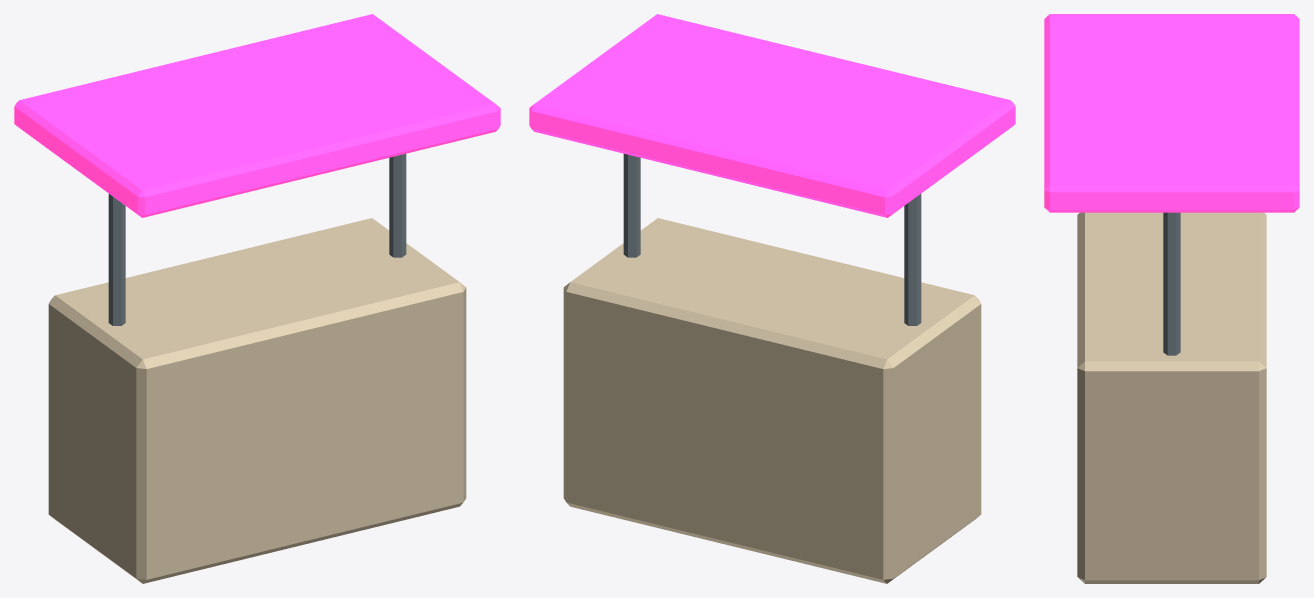
File: street_007_seed11.glb
3 views of the same model, side by side, from view 1: azimuth 30°, elevation 25°; view 2: azimuth 150°, elevation 25°; view 3: azimuth 270°, elevation 25° (orthographic).
Visible parts, largest first — view 1: street_007_seed11; view 2: street_007_seed11; view 3: street_007_seed11.
Part boxes in pixels (left/top/right/bottom): street_007_seed11: left=14, top=14, right=500, bottom=583; street_007_seed11: left=529, top=14, right=1015, bottom=583; street_007_seed11: left=1044, top=14, right=1299, bottom=583.
Size of the model in its own units: 2.2 by 2.38 by 1.35.
